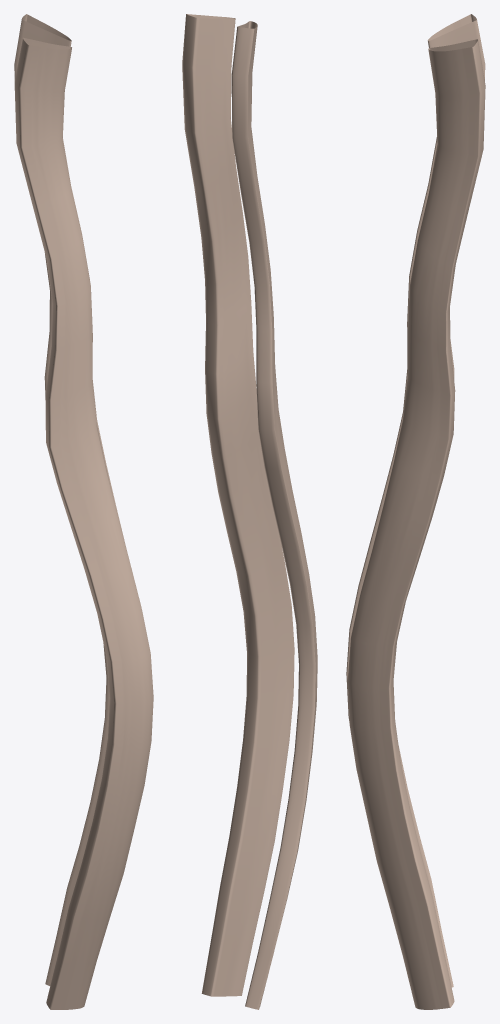
The model's file is nervous_central.neck.glb.
3 views of the same model, side by side, from view 1: azimuth 90°, elevation 25°; view 2: azimuth 150°, elevation 25°; view 3: azimuth 270°, elevation 25° (orthographic). The views are drawn at different scales.
Parts seen in each view (by area): view 1: cuneate_fasciculus; view 2: cuneate_fasciculus; view 3: cuneate_fasciculus.
Part boxes in pixels (<box>): cuneate_fasciculus: <box>14,14,153,1009</box>; cuneate_fasciculus: <box>182,14,317,1009</box>; cuneate_fasciculus: <box>346,14,485,1009</box>.
Bounding box in the file's own units: 0.0093 × 0.1052 × 0.0136.
